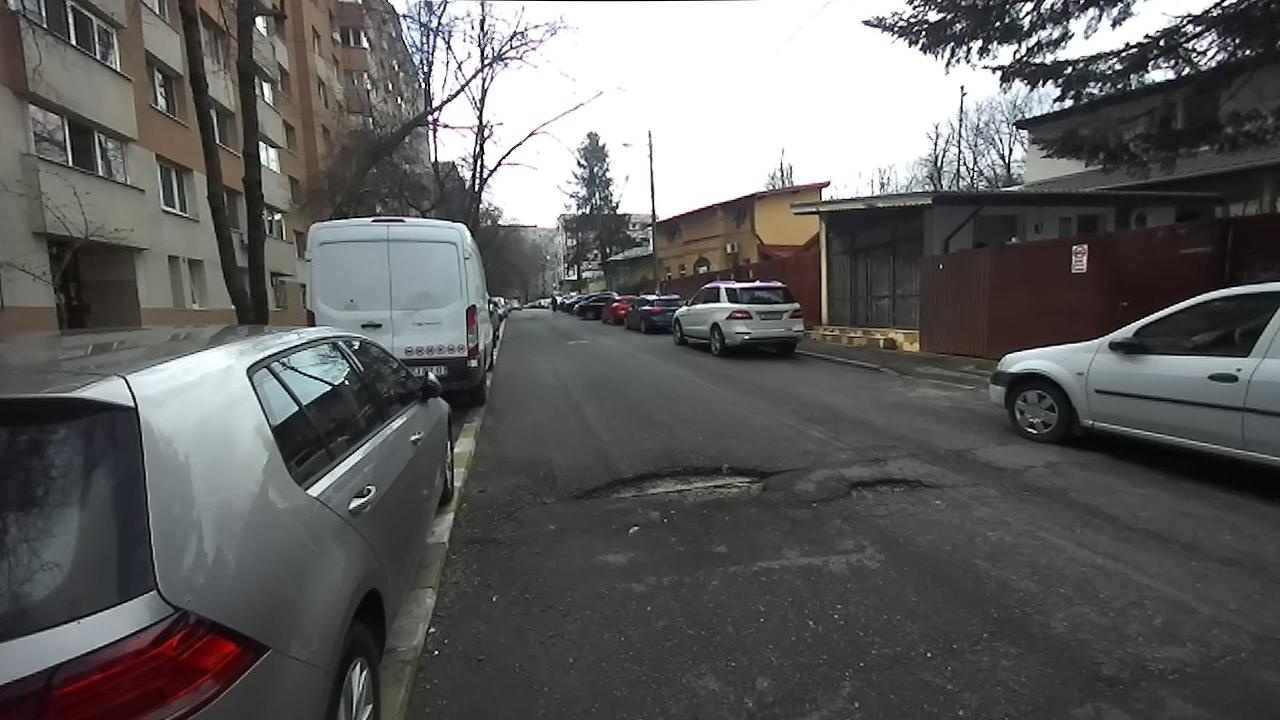pothole: (566, 460, 798, 509), (803, 473, 944, 512)
